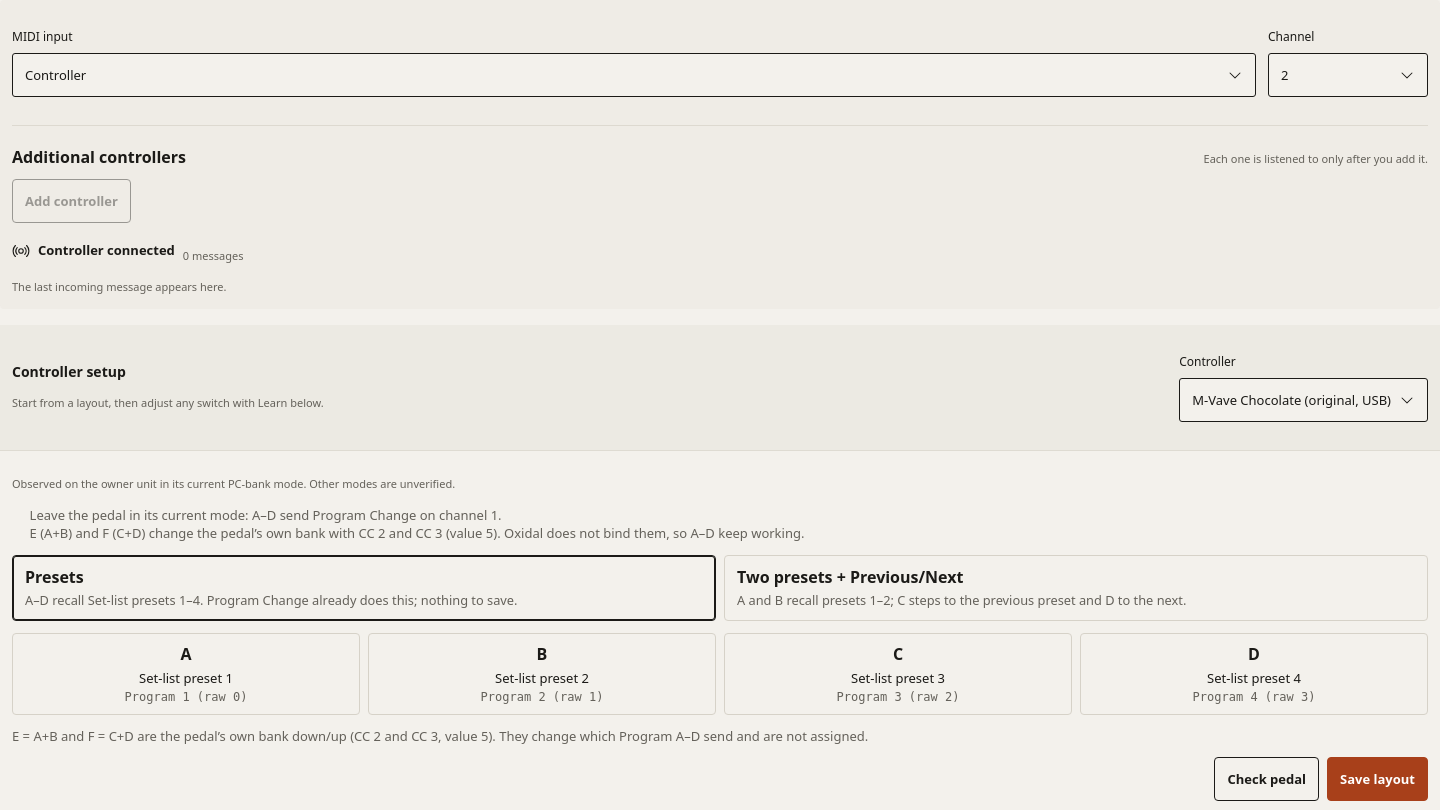
Test: refuses a layout whose numbers an existing preset mapping already uses
Click the radio button labelled "Two presets". click: click(850, 577)
box: top-left (724, 555), bottom-right (1428, 621)
(page scrolled)
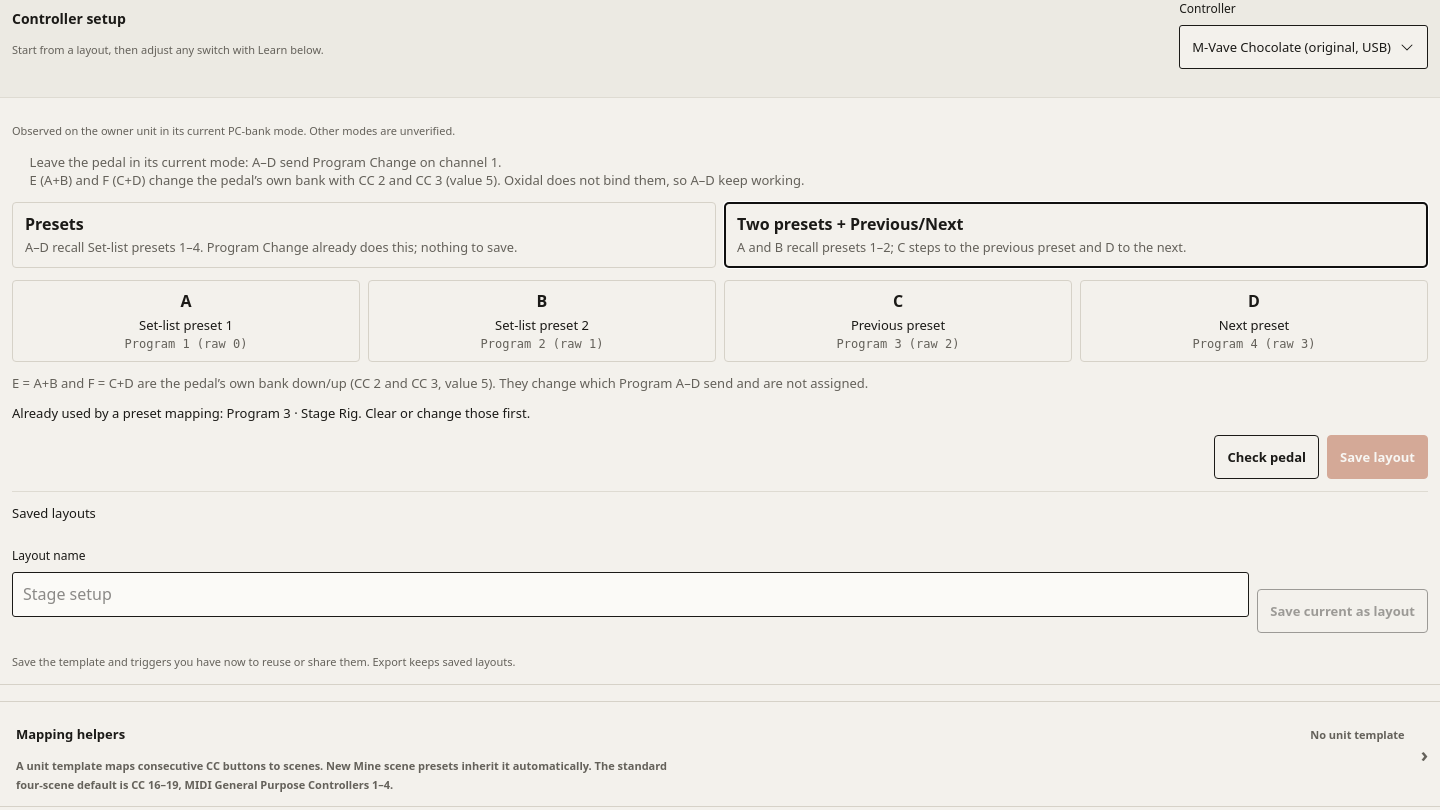
Now the message shows "Program 3 · Stage Rig", box top-left (226, 404), bottom-right (358, 422)
Now the button "Save layout" is disabled, box top-left (1327, 435), bottom-right (1428, 479)
